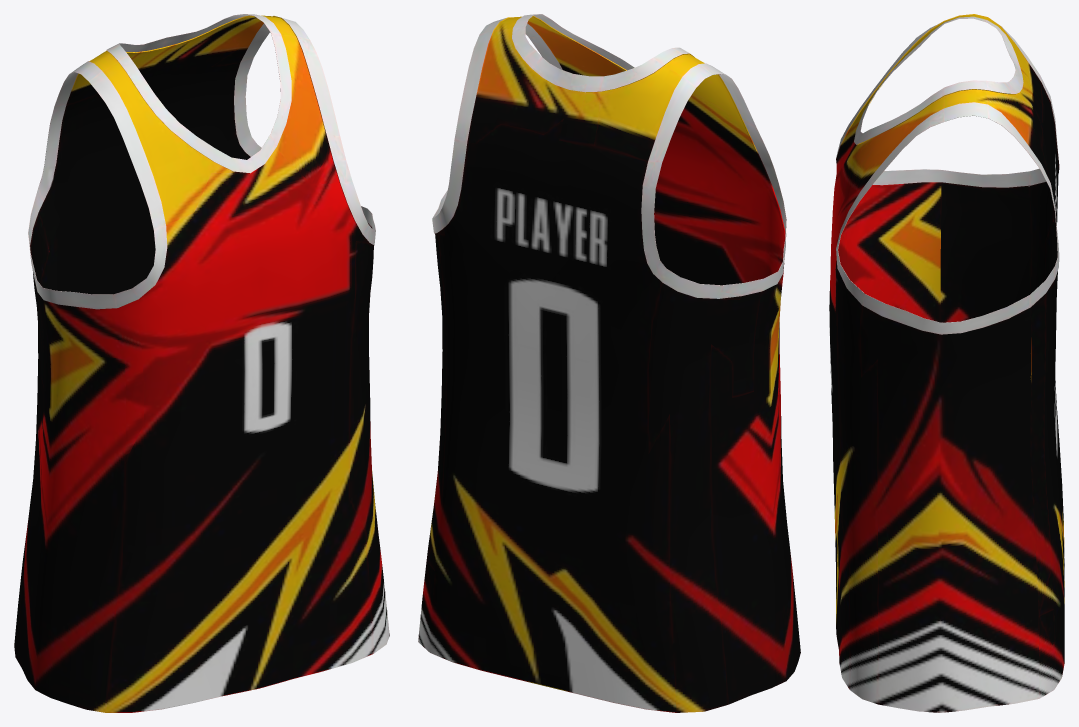
File: jersey-basquet-llamas-lite.glb
3 views of the same model, side by side, from view 1: azimuth 30°, elevation 25°; view 2: azimuth 150°, elevation 25°; view 3: azimuth 270°, elevation 25° (orthographic). The views are drawn at different scales.
Visible parts, largest first — view 1: front002, front002_1; view 2: front002, front002_1; view 3: front002, front002_1.
Part boxes in pixels (<box>): front002: <box>14,14,389,712</box>; front002_1: <box>31,16,263,294</box>; front002: <box>418,14,800,712</box>; front002_1: <box>527,16,784,285</box>; front002: <box>829,14,1064,712</box>; front002_1: <box>838,96,1057,322</box>.
Bounding box in the file's own units: 0.4123 × 0.7 × 0.2556.
2 materials, 2 textured.
